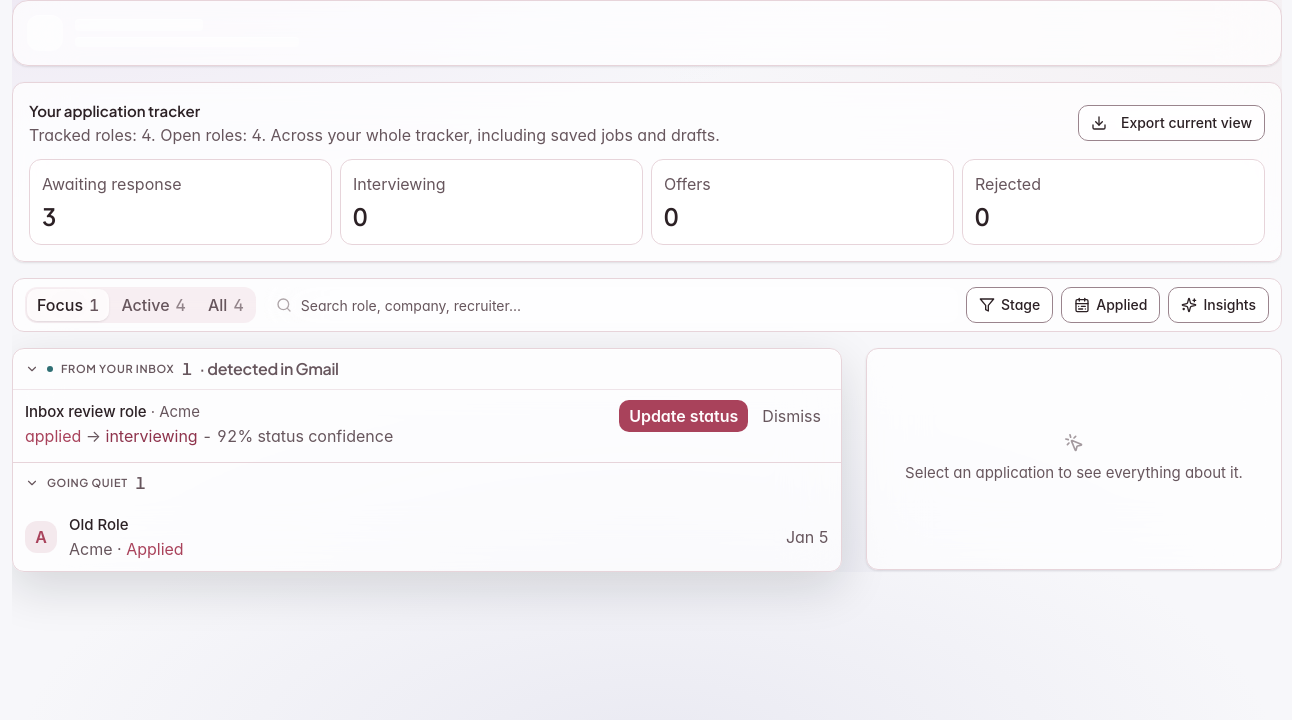
Scenario: the Focus queue › pending inbox reviews remain visible once when Focus has no search matches
Expected: the button "From your inbox 1 · detected in Gmail" is shown, [13,349,841,389]
Type "No role matches this" into the field named "Search applications" at (611, 305), box [264,287,958,323]
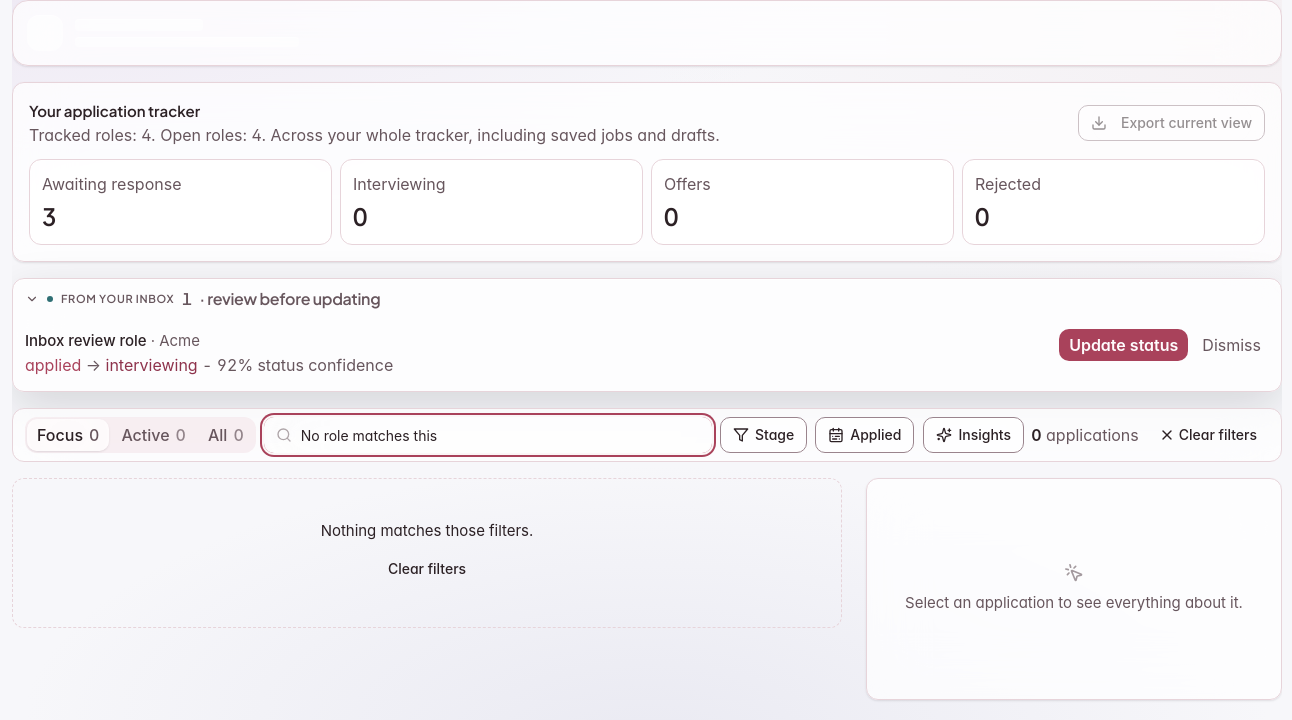
Expected: the number of buttons "Update status" is 1, [1059,329,1188,361]
Result: the text "Nothing matches those filters." is shown at [321,521,533,540]
Result: the number of buttons "From your inbox 1 · review before updating" is 1 at [13,279,1281,319]
